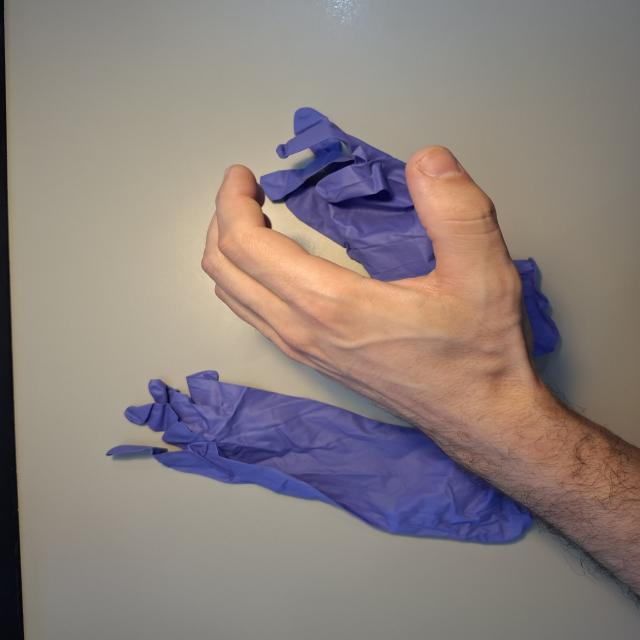glove_off: (196, 142, 557, 436)
